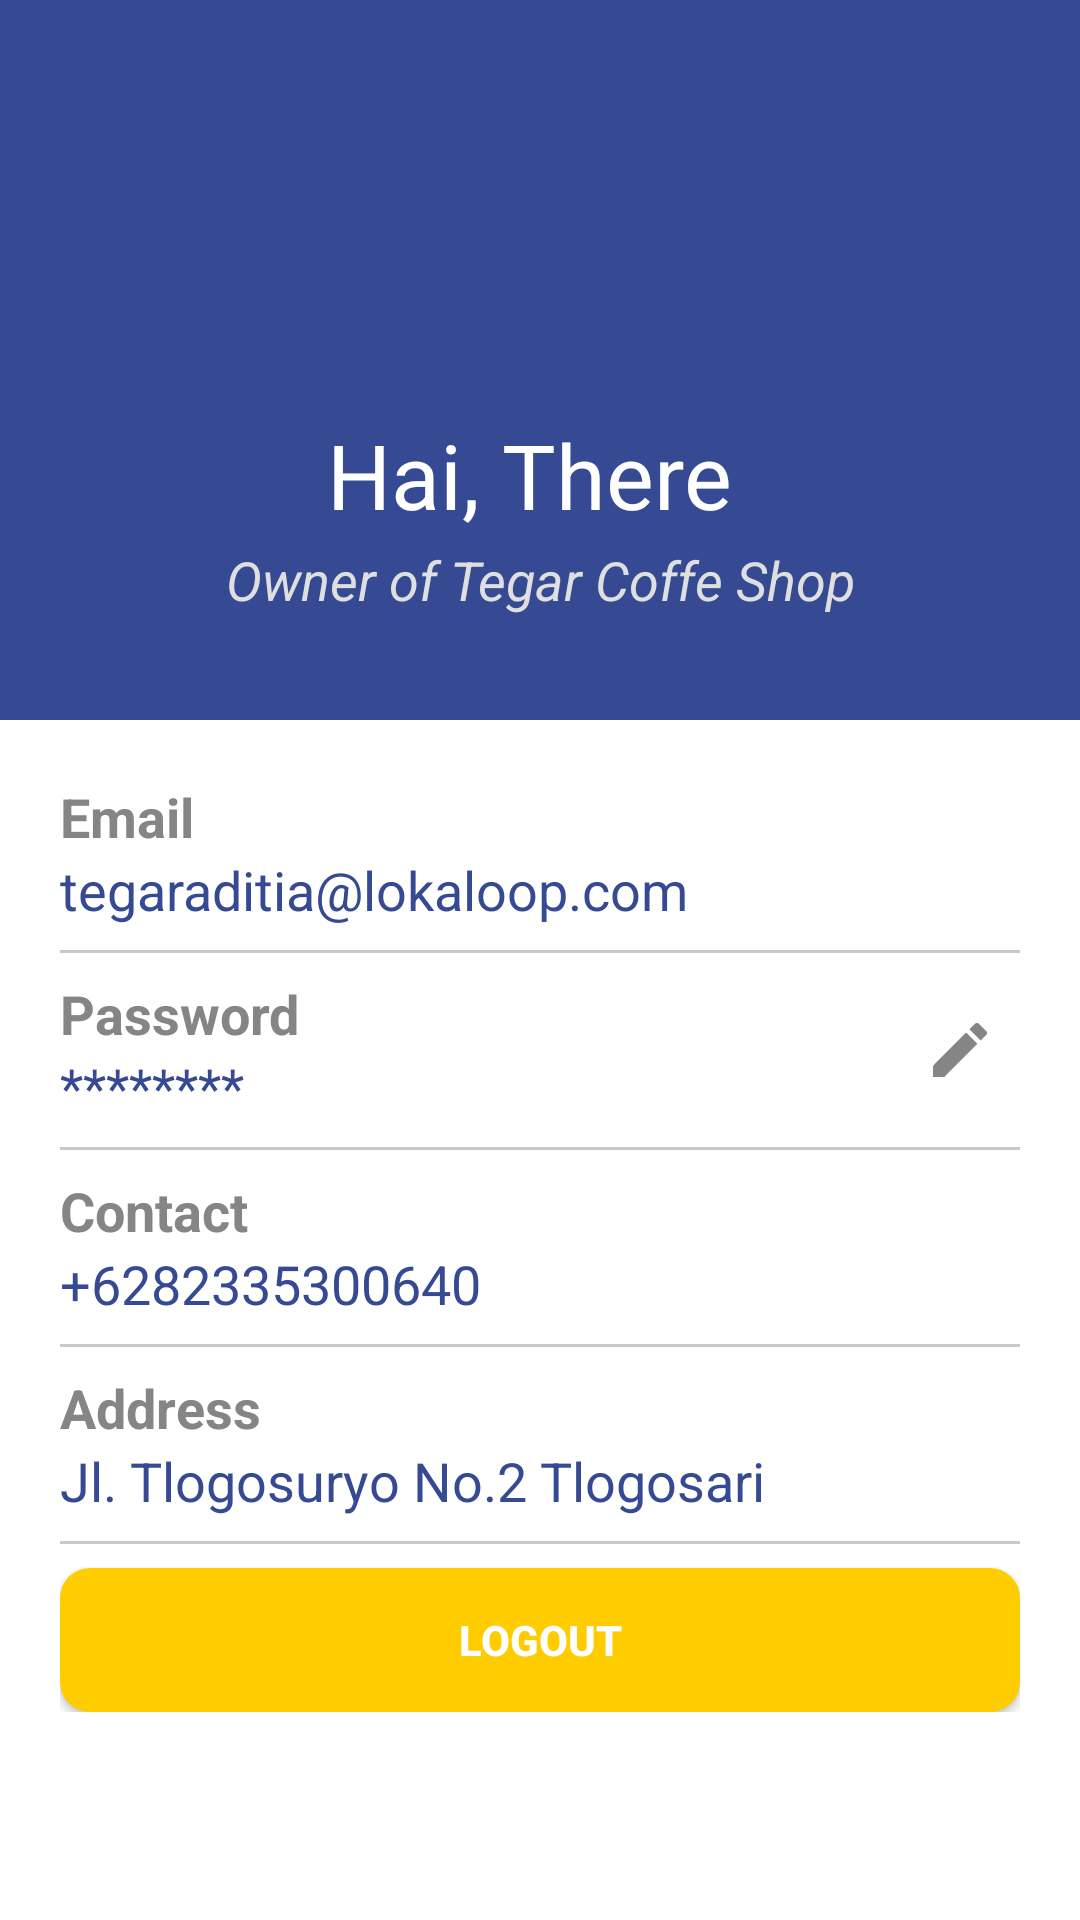

Named icons in this screenshot (1080 × 1920) and their bounding boxes, (x1, y1, x2, y2):
edit: (933, 1023, 987, 1077)
